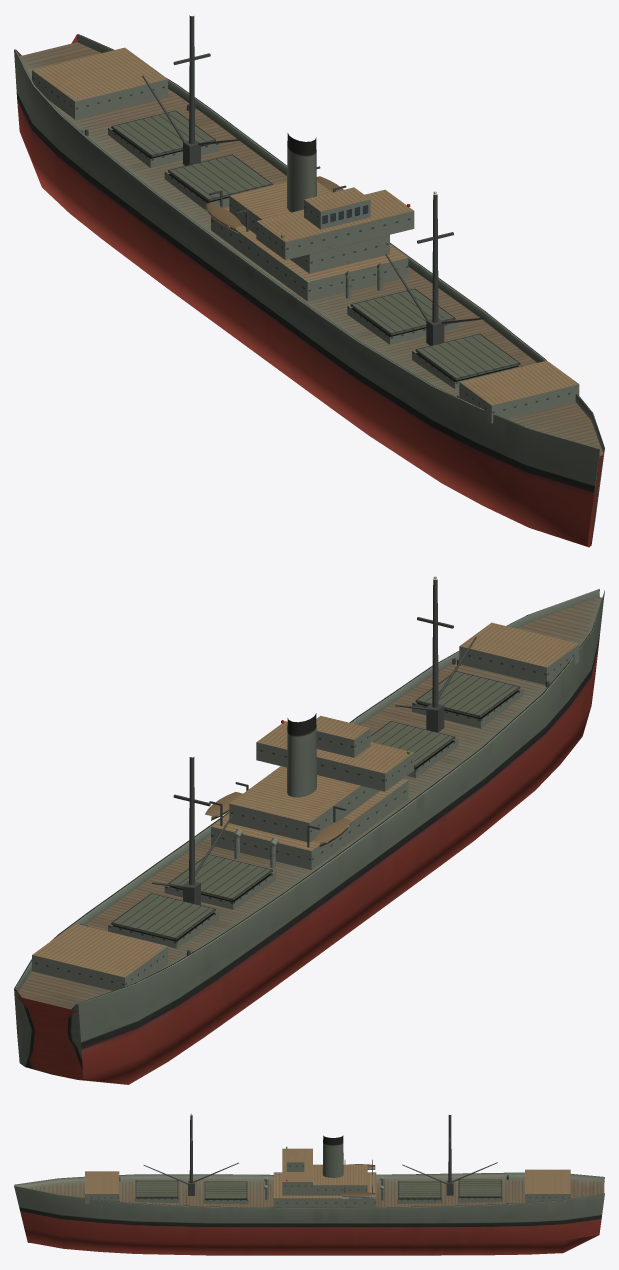
File: cargo.glb
3 renders of one model, top to bottom at view 1: azimuth 30°, elevation 25°; view 2: azimuth 150°, elevation 25°; view 3: azimuth 270°, elevation 25°, orthographic. The views are drawn at different scales.
Visible parts, largest first — view 1: hull, hold_hatch_1, hold_hatch_3, hold_hatch_2, hold_hatch_4; view 2: hull, hold_hatch_4, hold_hatch_1, hold_hatch_3, hold_hatch_2; view 3: hull, hold_hatch_4, hold_hatch_1, hold_hatch_2, hold_hatch_3, boat_left.
Part boxes in pixels (x1,y1,x2,y2): hull: (14,15,604,547); hold_hatch_1: (415,333,520,380); hold_hatch_3: (168,154,272,201); hold_hatch_2: (350,288,455,335); hold_hatch_4: (111,110,215,157); hull: (14,576,604,1084); hold_hatch_4: (111,893,215,940); hold_hatch_1: (415,671,520,717); hold_hatch_3: (168,854,272,900); hold_hatch_2: (370,721,455,767); hull: (14,1113,604,1255); hold_hatch_4: (458,1179,501,1197); hold_hatch_1: (135,1180,178,1197); hold_hatch_2: (204,1181,247,1198); hold_hatch_3: (398,1181,441,1198); boat_left: (342,1192,375,1198).
Bounding box in the file's own units: 18 × 32.43 × 134.
8 materials, 7 textured.
